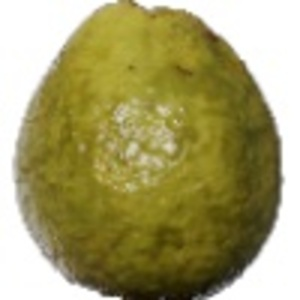goiaba: (10, 1, 289, 297)
